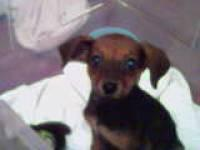dog-miniature_pinscher: (57, 31, 169, 99)
